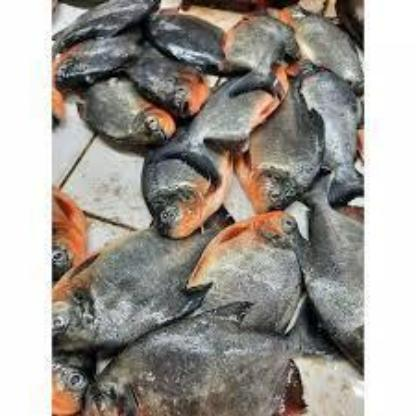ikan-pacu: (90, 316, 306, 416), (53, 227, 193, 335), (190, 209, 304, 328), (244, 80, 320, 214), (142, 132, 235, 238), (76, 76, 178, 146), (136, 53, 218, 123)
